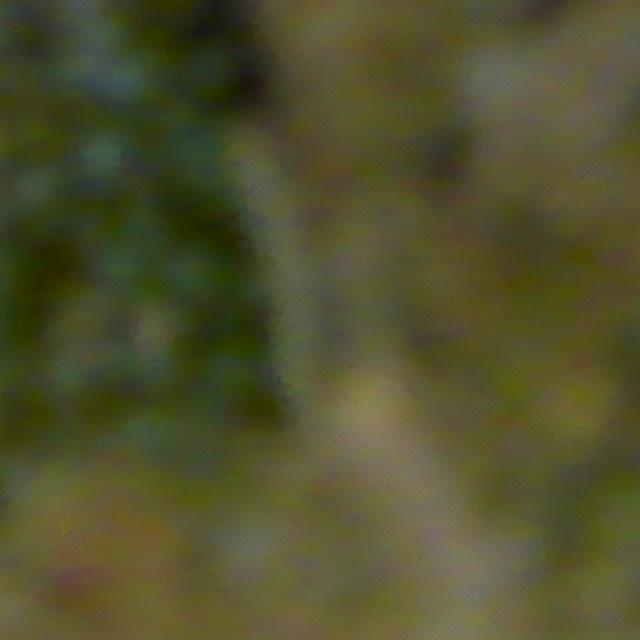SeaGrape: (576, 491, 640, 583), (71, 120, 142, 196), (6, 157, 69, 228)
